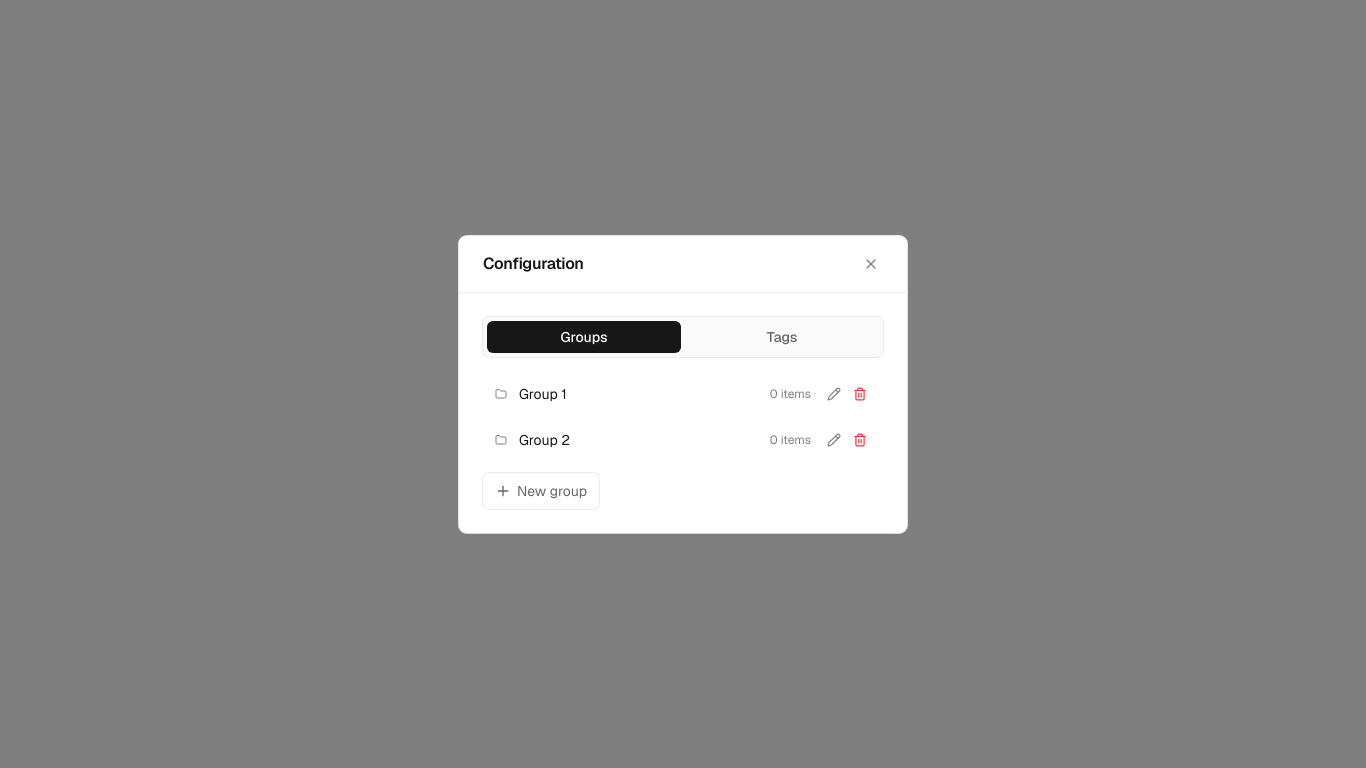
Scenario: ConfigurationModal › tabs › switches to Tags tab
The width and height of the screenshot is (1366, 768).
Click the button "tags" at (782, 336), box [685,320,879,352]
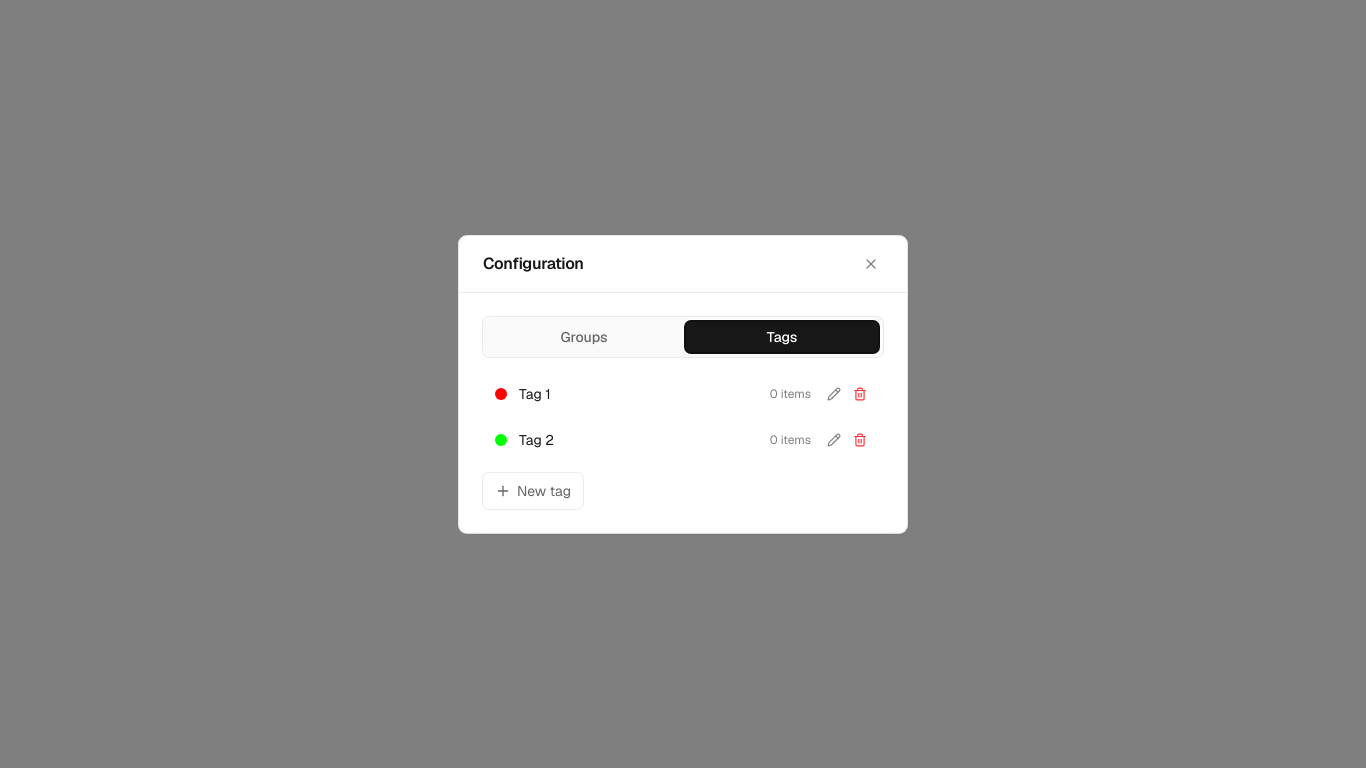
Check: the text "Tag 1" is shown, box [519,384,551,402]
Check: the text "Tag 2" is shown, box [519,430,554,448]
Check: the text "Group 1" is gone
